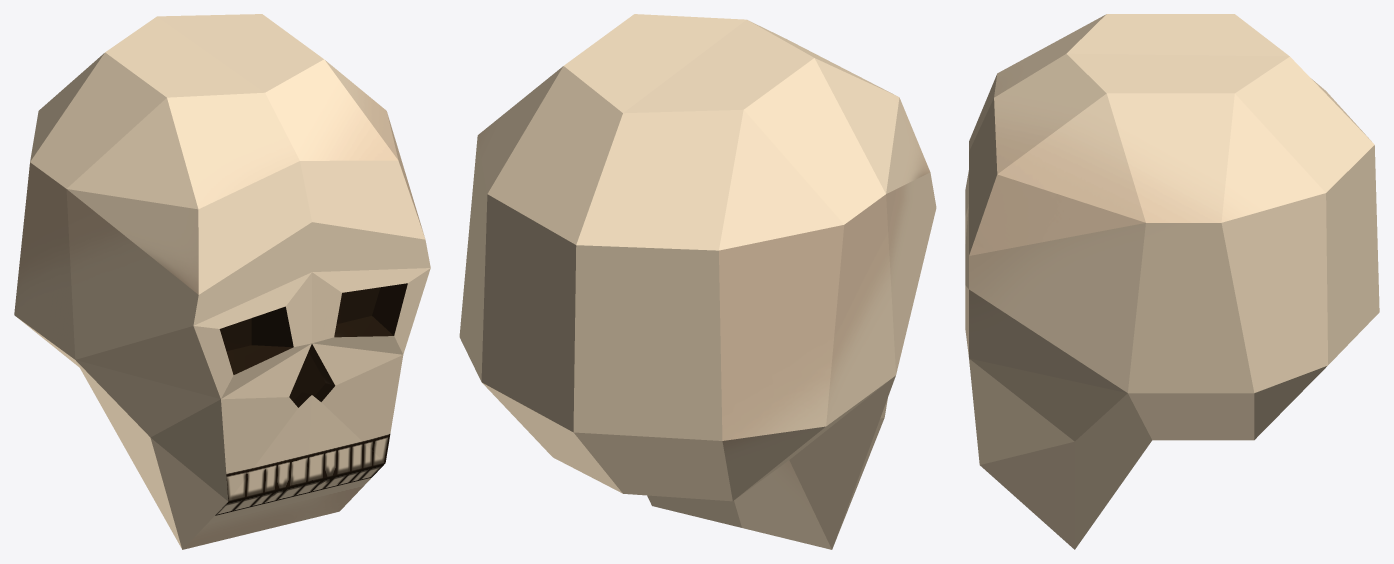
Rendered from Skull.fbx.
3 renders of one model, left to right at view 1: azimuth 30°, elevation 25°; view 2: azimuth 150°, elevation 25°; view 3: azimuth 270°, elevation 25°, orthographic. The views are drawn at different scales.
Parts seen in each view (by area): view 1: Skull; view 2: Skull; view 3: Skull.
Part boxes in pixels (box(x1,y1,x2,y2)): Skull: box(14, 14, 430, 549); Skull: box(459, 14, 936, 549); Skull: box(965, 14, 1379, 549).
Size of the model in its own units: 310 by 408 by 335.
